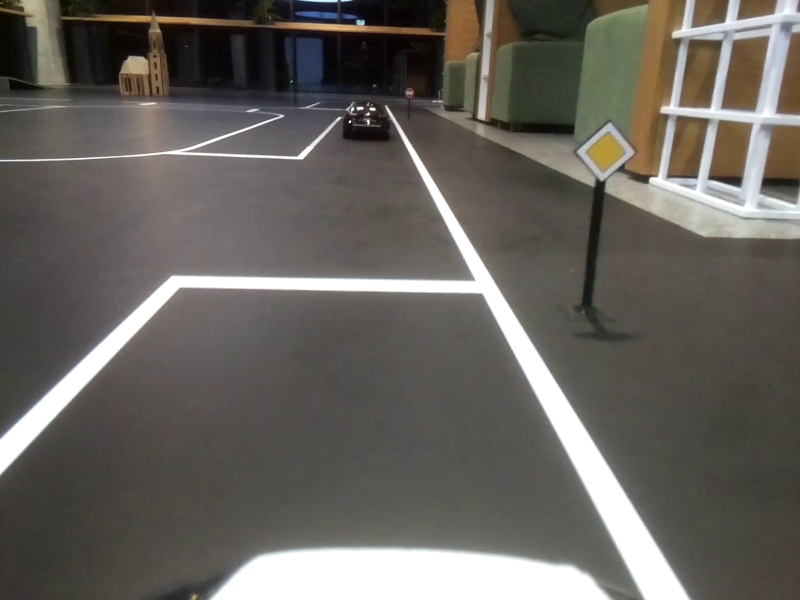priority: (573, 123, 637, 178)
